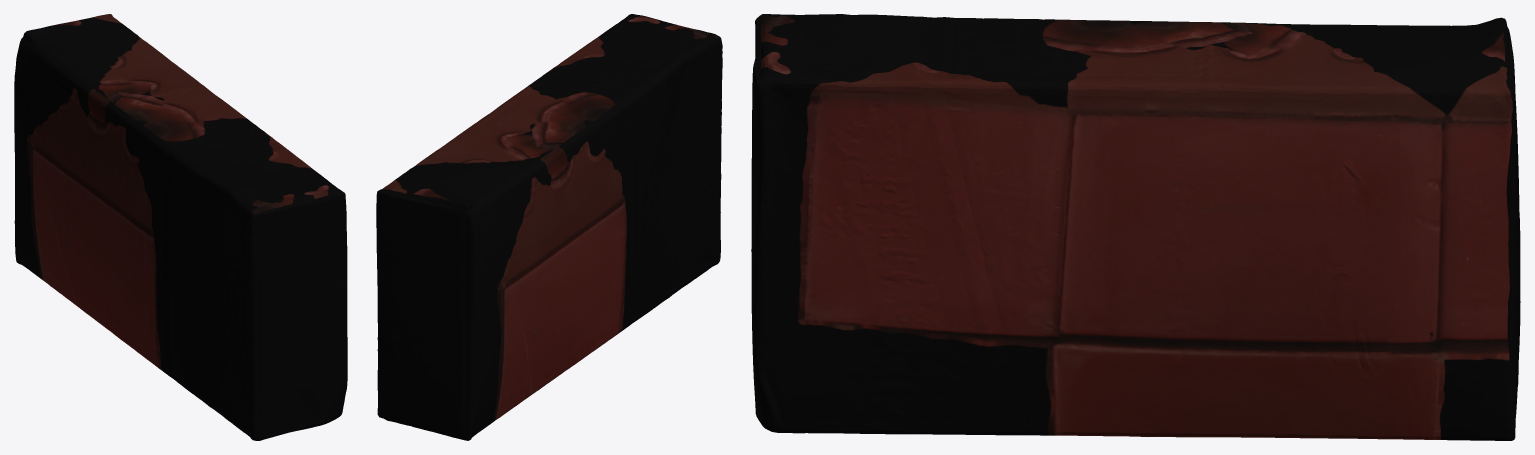
3 views of the same model, side by side, from view 1: azimuth 30°, elevation 25°; view 2: azimuth 150°, elevation 25°; view 3: azimuth 270°, elevation 25° (orthographic). The views are drawn at different scales.
Bounding box in the file's own units: 0.0451 × 0.0921 × 0.176.
